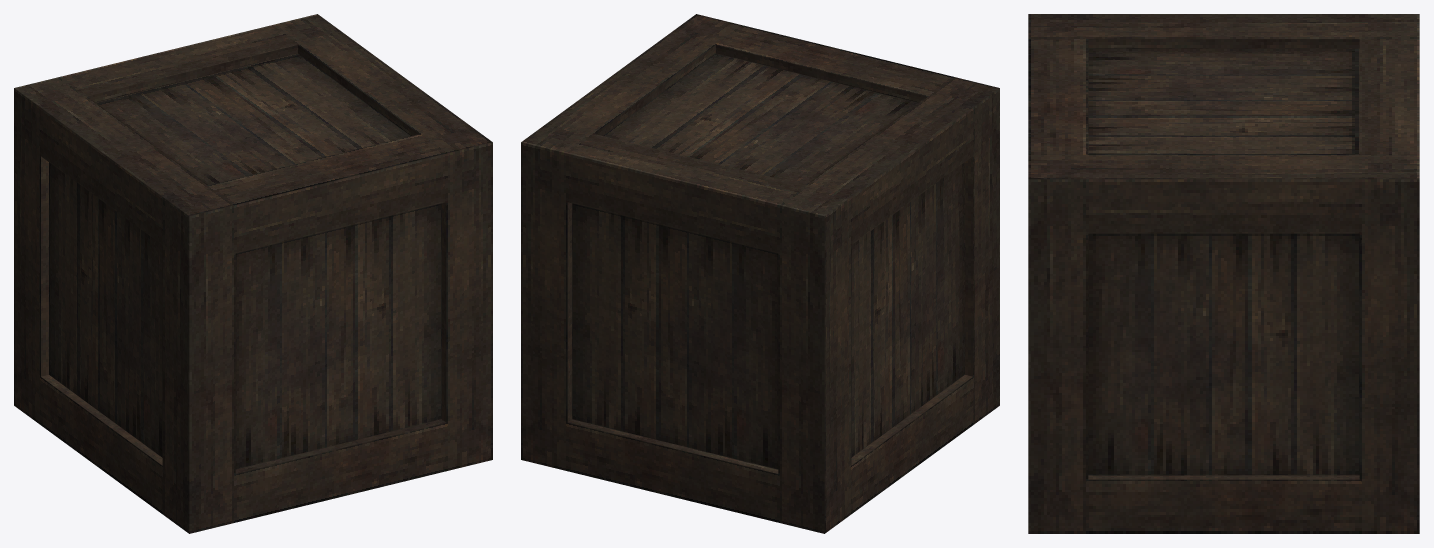
Rendered from wooden_crate_6.glb.
3 views of the same model, side by side, from view 1: azimuth 30°, elevation 25°; view 2: azimuth 150°, elevation 25°; view 3: azimuth 270°, elevation 25° (orthographic). The views are drawn at different scales.
Parts seen in each view (by area): view 1: wooden_crate_6; view 2: wooden_crate_6; view 3: wooden_crate_6.
Part boxes in pixels (x1,y1,x2,y2): wooden_crate_6: [14, 14, 492, 533]; wooden_crate_6: [521, 14, 999, 533]; wooden_crate_6: [1028, 14, 1419, 533].
Size of the model in its own units: 0.75 by 0.75 by 0.75.
Materials: 1 (1 with a texture image).
